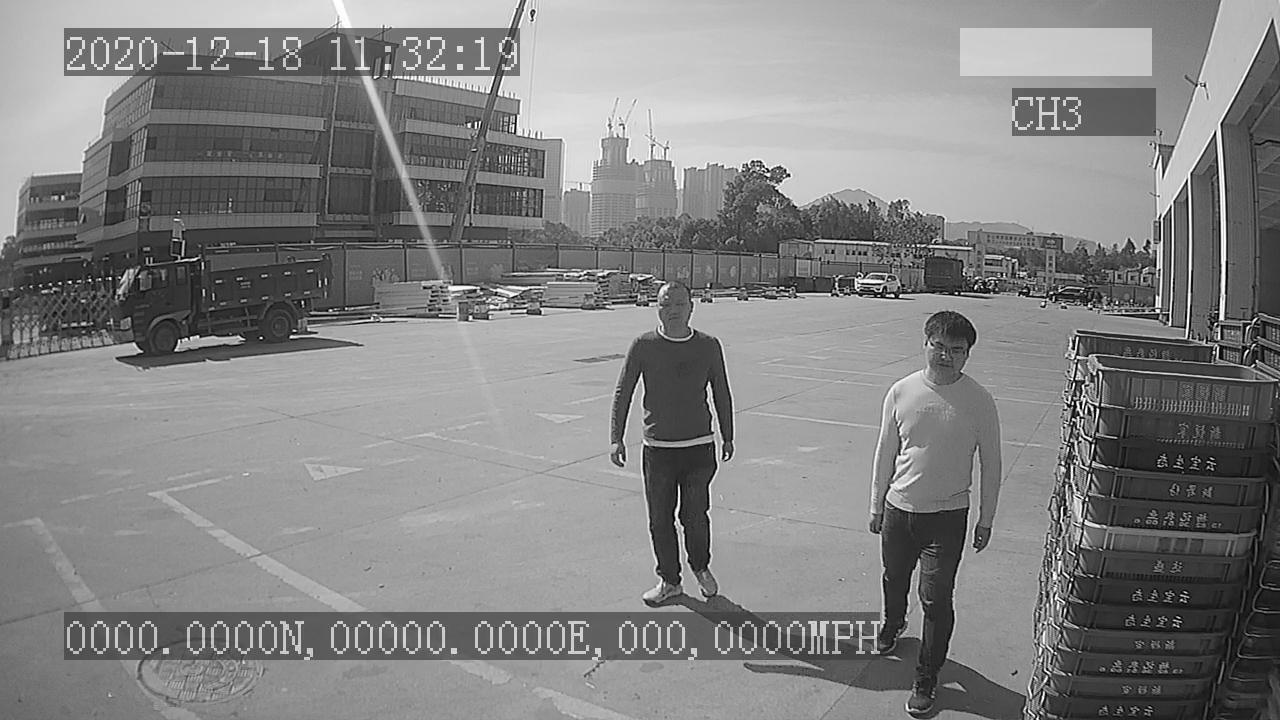person: (607, 280, 741, 606)
